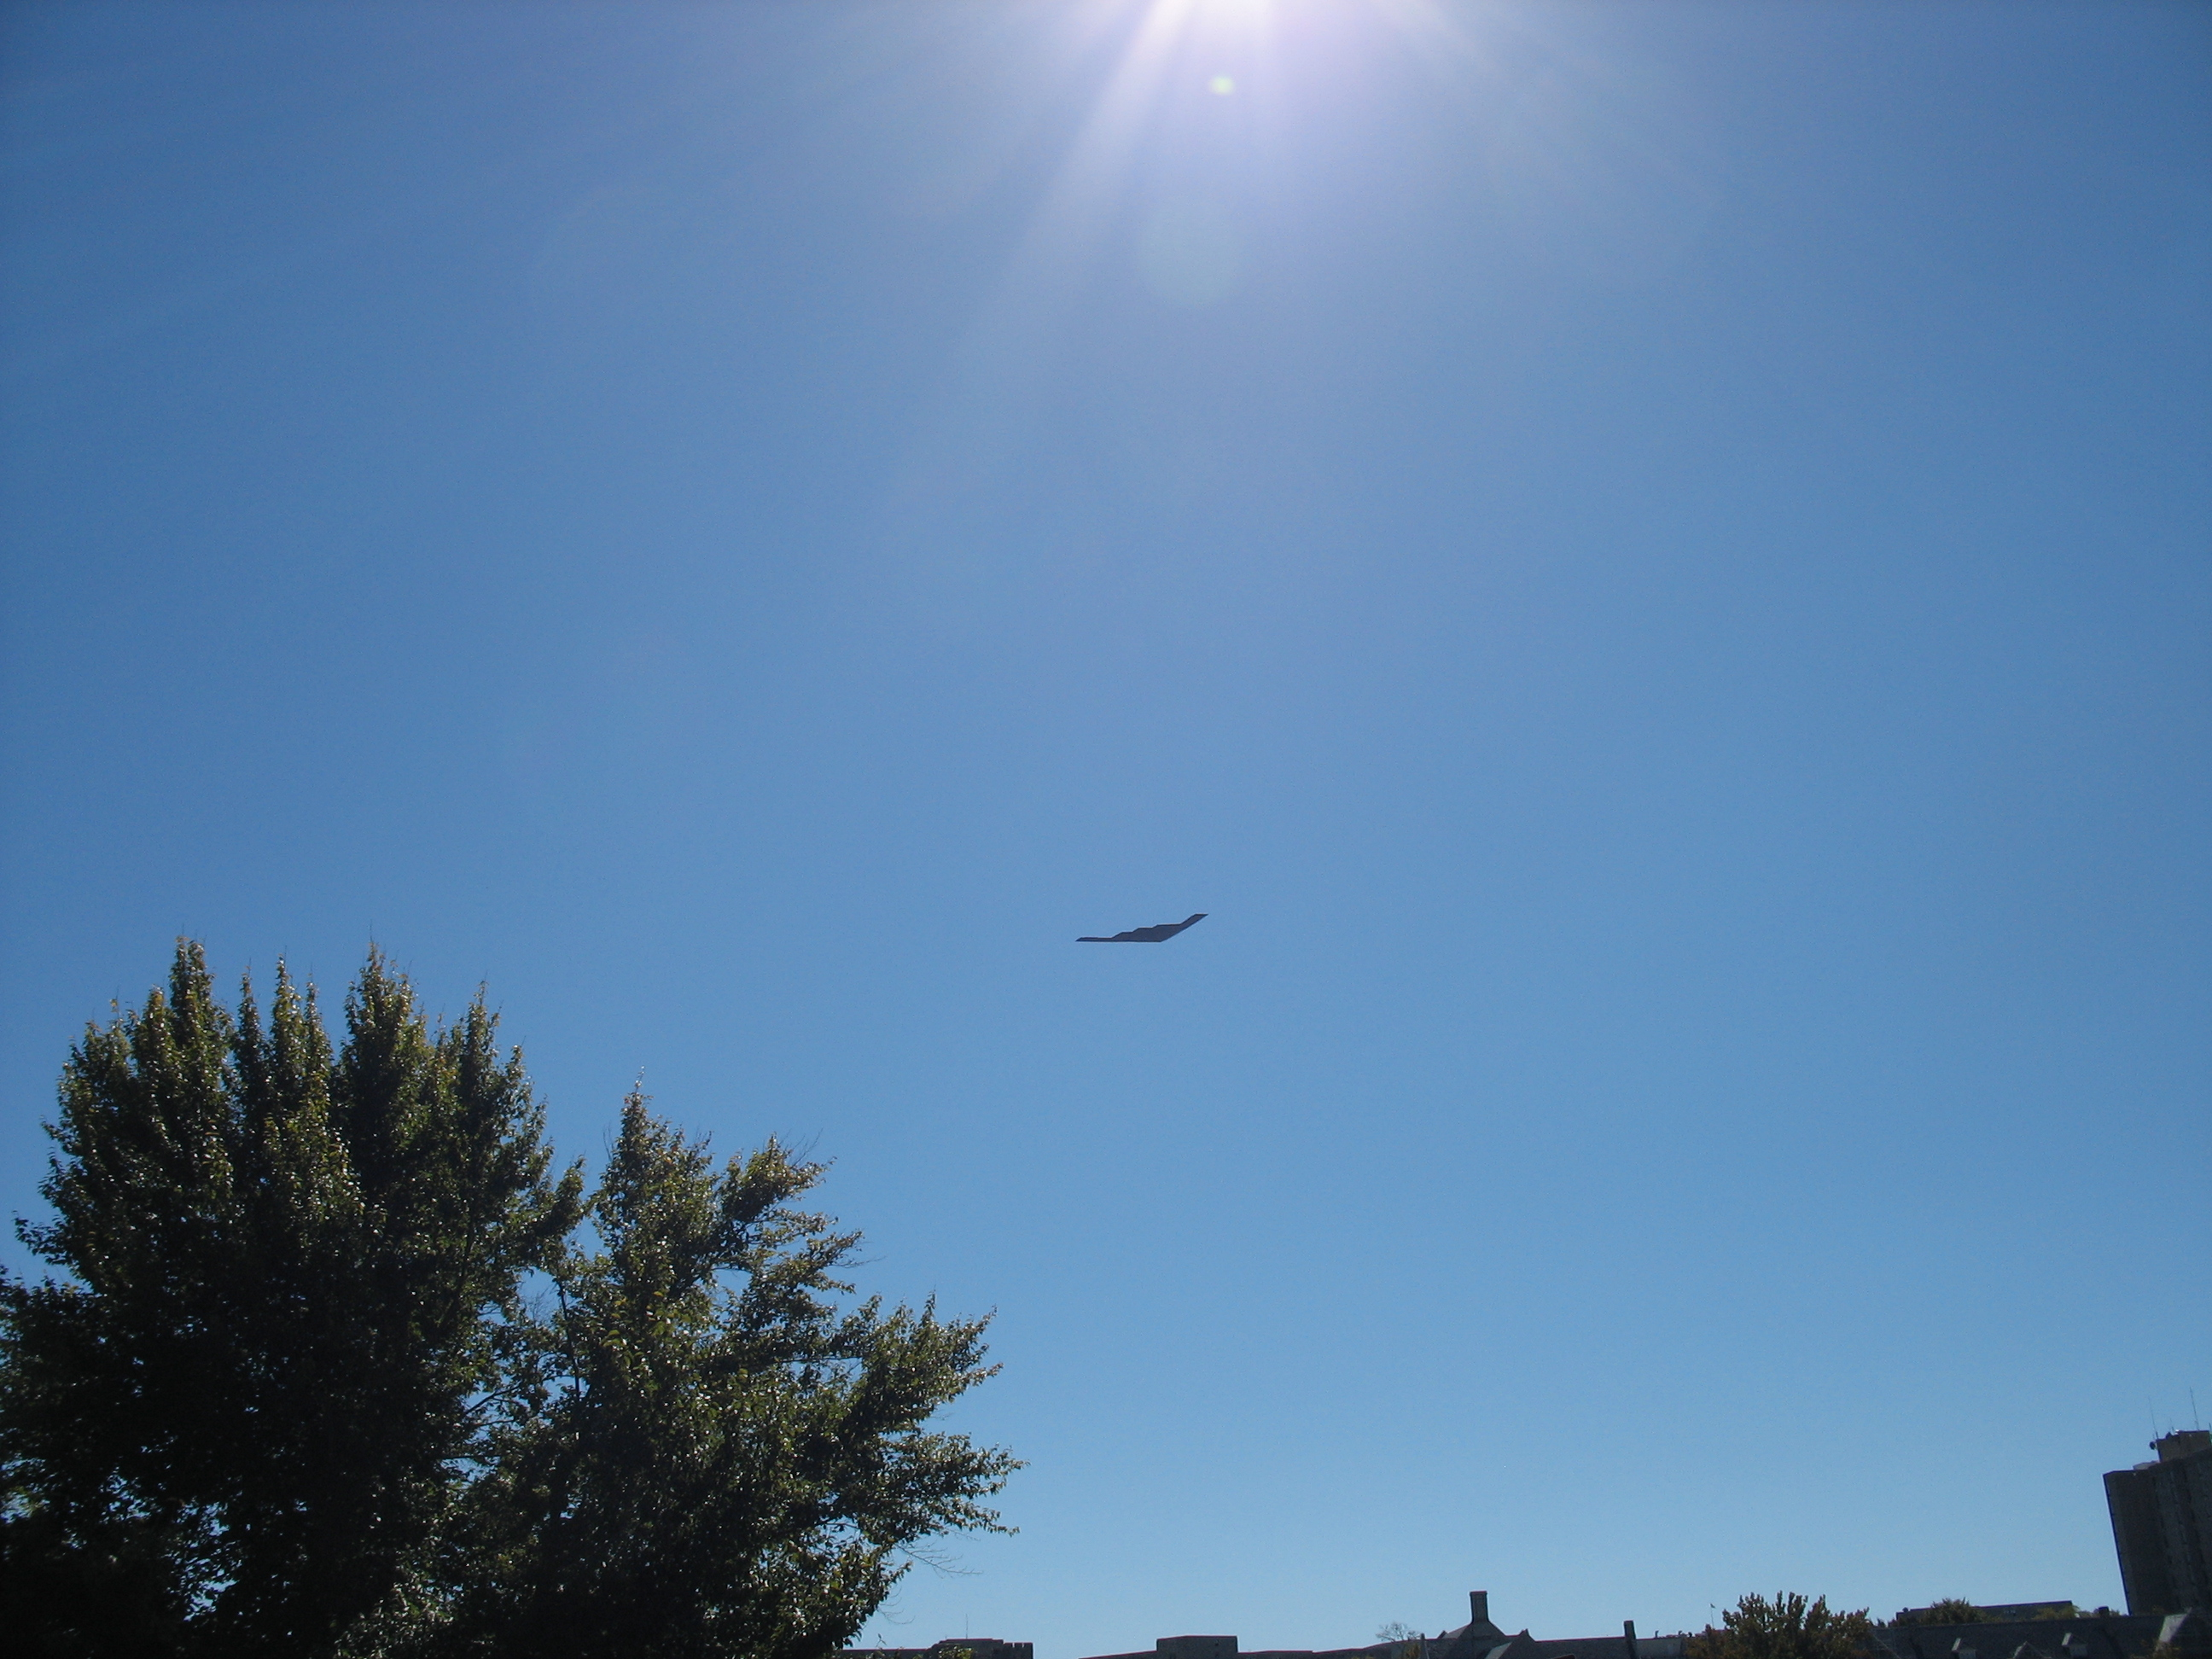B2: (1075, 913, 1209, 943)
